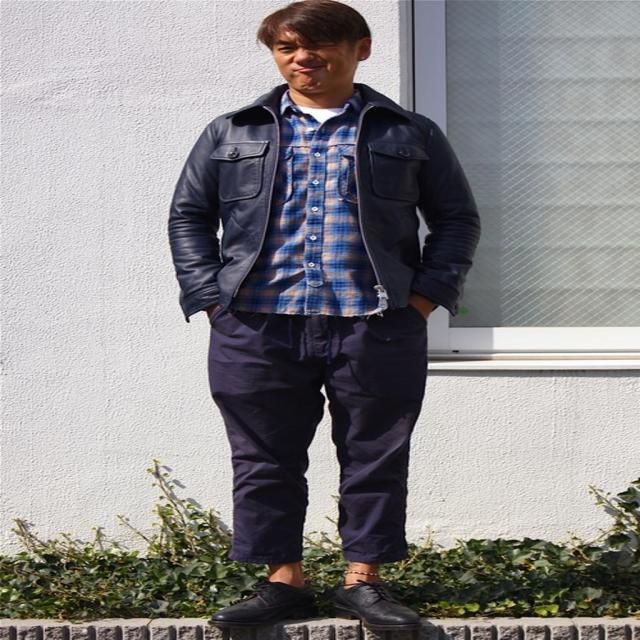Face: (262, 17, 379, 107)
